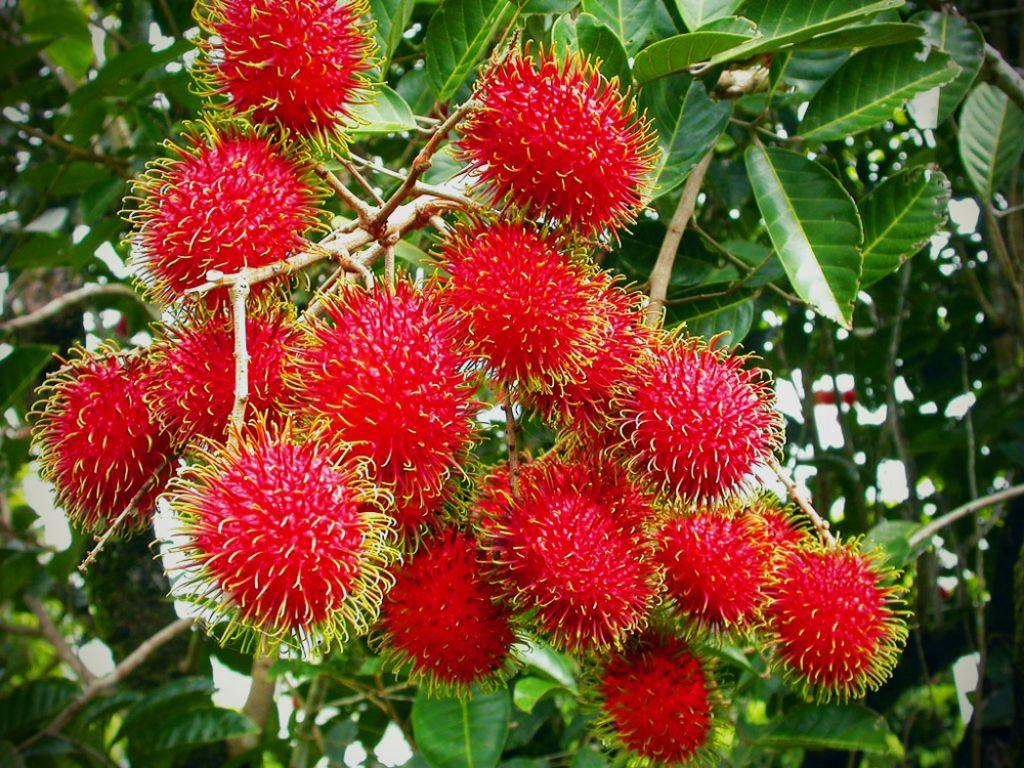chom_chom: (169, 412, 395, 647), (455, 42, 657, 244), (468, 453, 673, 652), (435, 206, 608, 389), (606, 332, 785, 498), (742, 530, 911, 700)
